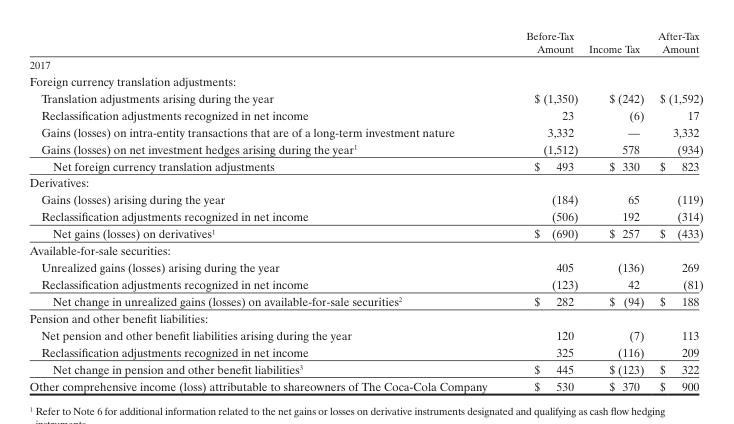table: (28, 29, 702, 392)
table column: (28, 29, 506, 392), (506, 29, 582, 392), (582, 29, 650, 392), (650, 29, 702, 392)
table column header: (28, 29, 702, 56)
table projected row header: (28, 72, 702, 89), (28, 173, 702, 190), (28, 241, 702, 258), (28, 309, 702, 326), (28, 56, 702, 72)
table row: (28, 29, 702, 56), (28, 72, 702, 89), (28, 89, 702, 106), (28, 106, 702, 123), (28, 123, 702, 140), (28, 156, 702, 173), (28, 173, 702, 190), (28, 190, 702, 207), (28, 207, 702, 224), (28, 224, 702, 241), (28, 241, 702, 258), (28, 258, 702, 275), (28, 275, 702, 292), (28, 292, 702, 309), (28, 309, 702, 326), (28, 326, 702, 343), (28, 343, 702, 360), (28, 360, 702, 377), (28, 56, 702, 72), (28, 140, 702, 156), (28, 377, 702, 392)
